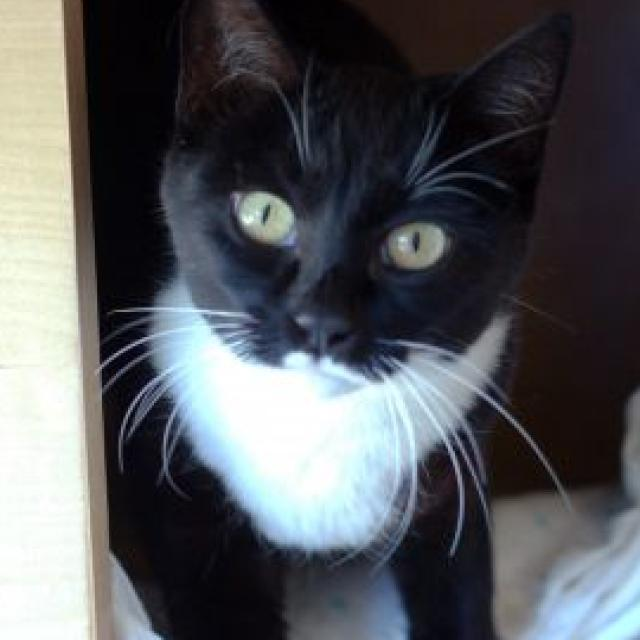Tuxedo: (95, 0, 578, 640)
